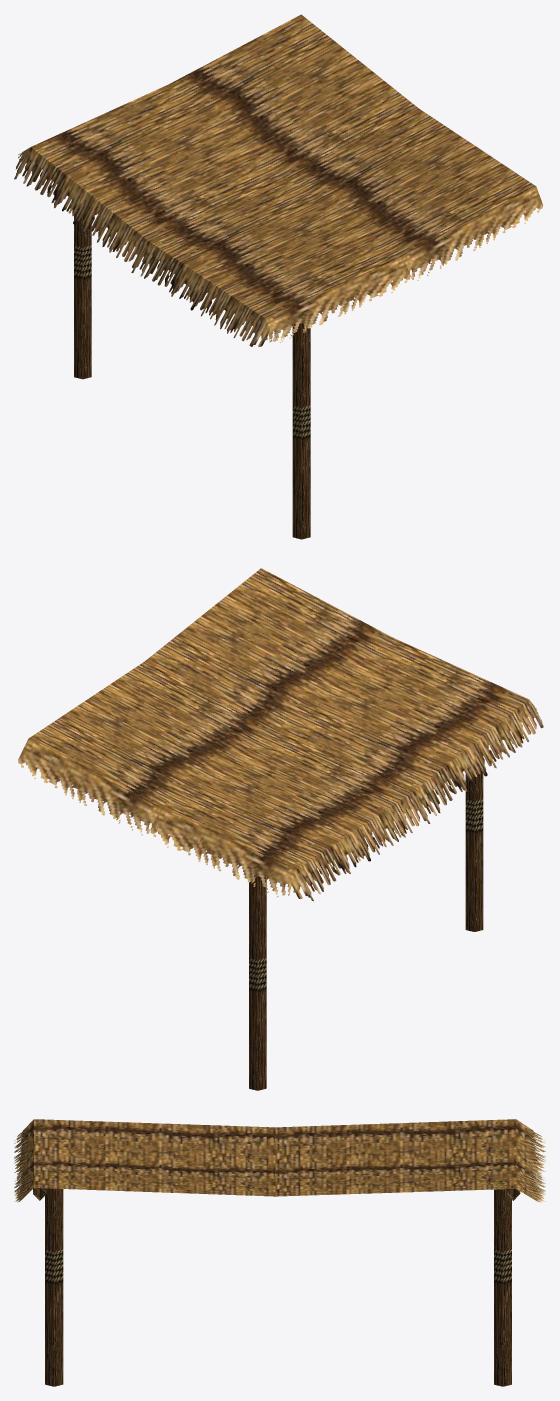
Rendered from Choza.obj.
3 views of the same model, one above another, from view 1: azimuth 30°, elevation 25°; view 2: azimuth 150°, elevation 25°; view 3: azimuth 270°, elevation 25° (orthographic). The views are drawn at different scales.
Visible parts, largest first — view 1: Choza_geom-03D75826.013_material-036FDDC8, Choza_geom-03D75826.013_material-019B4295, Choza_geom-03D75826.013_material-00258989; view 2: Choza_geom-03D75826.013_material-036FDDC8, Choza_geom-03D75826.013_material-019B4295, Choza_geom-03D75826.013_material-00258989; view 3: Choza_geom-03D75826.013_material-036FDDC8, Choza_geom-03D75826.013_material-00258989, Choza_geom-03D75826.013_material-019B4295.
Part boxes in pixels (x1,y1,x2,y2): Choza_geom-03D75826.013_material-036FDDC8: [31, 14, 535, 318]; Choza_geom-03D75826.013_material-019B4295: [14, 147, 543, 346]; Choza_geom-03D75826.013_material-00258989: [60, 133, 310, 539]; Choza_geom-03D75826.013_material-036FDDC8: [28, 568, 528, 869]; Choza_geom-03D75826.013_material-019B4295: [18, 699, 543, 901]; Choza_geom-03D75826.013_material-00258989: [249, 751, 483, 1090]; Choza_geom-03D75826.013_material-036FDDC8: [34, 1119, 516, 1196]; Choza_geom-03D75826.013_material-00258989: [33, 1129, 520, 1386]; Choza_geom-03D75826.013_material-019B4295: [14, 1119, 545, 1202].
Bounding box in the file's own units: 1.81 × 1.81 × 2.82.
